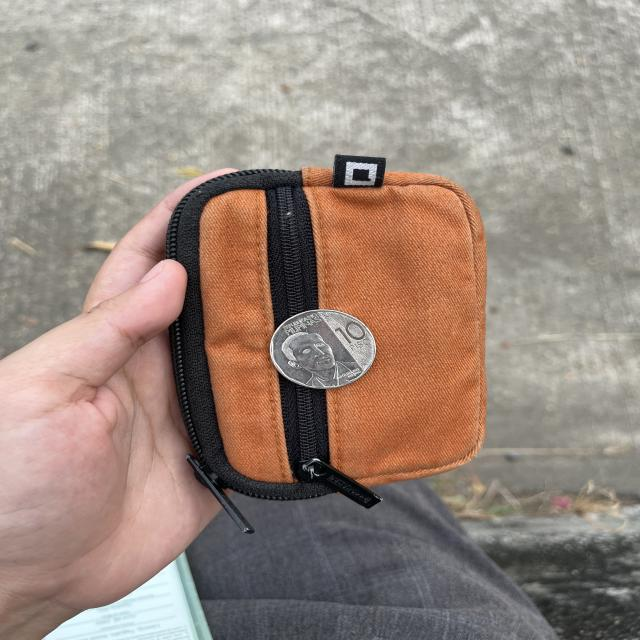10_New_Front: (331, 320, 370, 356)
